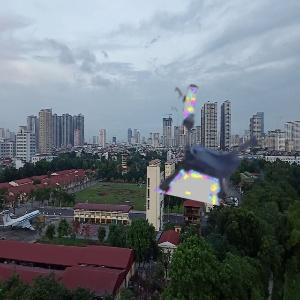drone: (164, 87, 284, 207)
